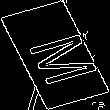M_E: (12, 24, 98, 86)
